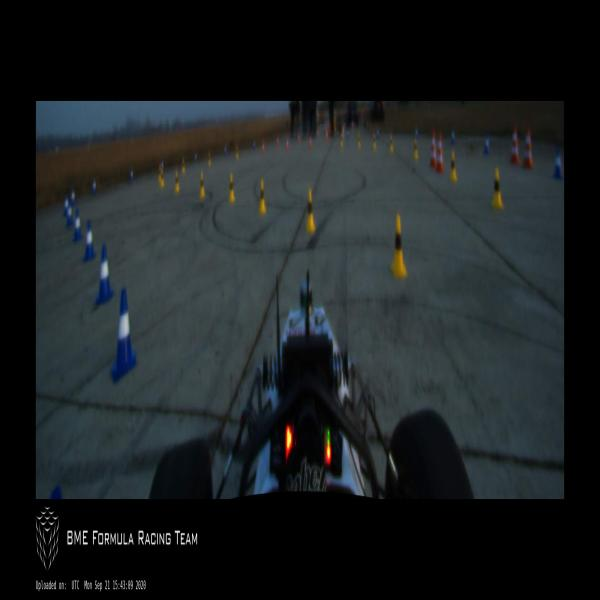blue_cone: (110, 288, 136, 382), (96, 244, 114, 304), (84, 218, 96, 260), (553, 150, 562, 178), (74, 210, 82, 241), (67, 203, 73, 225), (484, 136, 490, 154), (64, 195, 69, 216), (71, 188, 75, 204), (92, 178, 96, 193), (415, 126, 418, 139), (452, 129, 454, 144), (346, 130, 349, 139), (131, 168, 133, 181), (161, 160, 163, 171), (254, 140, 256, 150), (377, 128, 379, 138), (194, 153, 196, 162), (225, 146, 226, 154)
large_orange_cone: (523, 126, 533, 168), (436, 132, 444, 172), (511, 125, 519, 164), (430, 128, 436, 166)
orange_cone: (262, 140, 265, 154), (309, 135, 312, 148), (286, 138, 289, 150), (276, 135, 279, 146), (298, 132, 300, 142), (326, 130, 328, 140)
yellow_cone: (390, 214, 407, 277), (492, 169, 502, 208), (306, 189, 315, 231), (259, 180, 266, 212), (450, 152, 457, 180), (229, 172, 235, 202), (199, 172, 205, 197), (413, 138, 418, 158), (175, 171, 179, 192), (160, 170, 164, 186), (390, 133, 393, 152), (158, 165, 161, 181), (357, 132, 360, 147), (373, 133, 376, 148), (182, 159, 185, 172), (208, 153, 211, 166), (340, 134, 343, 146), (236, 145, 238, 158)
